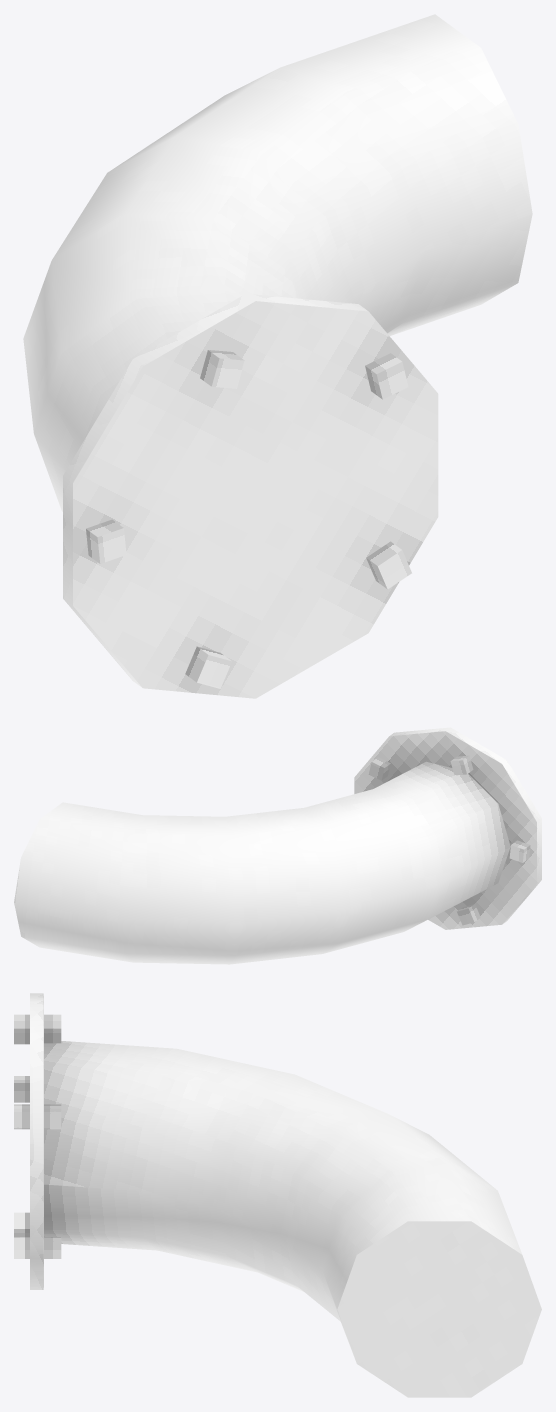
File: PipeCornerLong.glb
The picture shows the model from 3 angles, top to bottom: view 1: azimuth 30°, elevation 25°; view 2: azimuth 150°, elevation 25°; view 3: azimuth 270°, elevation 25°; orthographic projection. The views are drawn at different scales.
Visible parts, largest first — view 1: PipeCornerLong; view 2: PipeCornerLong; view 3: PipeCornerLong.
Boxes of the visible parts, x1,y1,x2,y2 form: PipeCornerLong: (23,14,532,698); PipeCornerLong: (14,727,541,964); PipeCornerLong: (14,993,541,1397).
Bounding box in the file's own units: 0.7414 × 0.4124 × 0.7223.
1 material, 1 textured.
